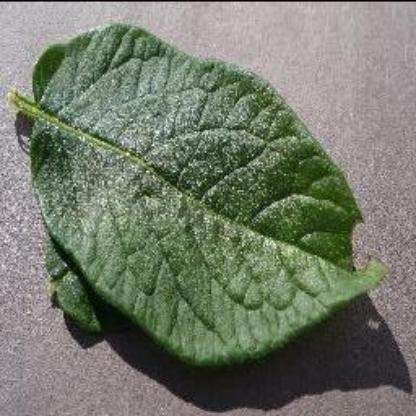Healthy-plant: (12, 15, 387, 372)
